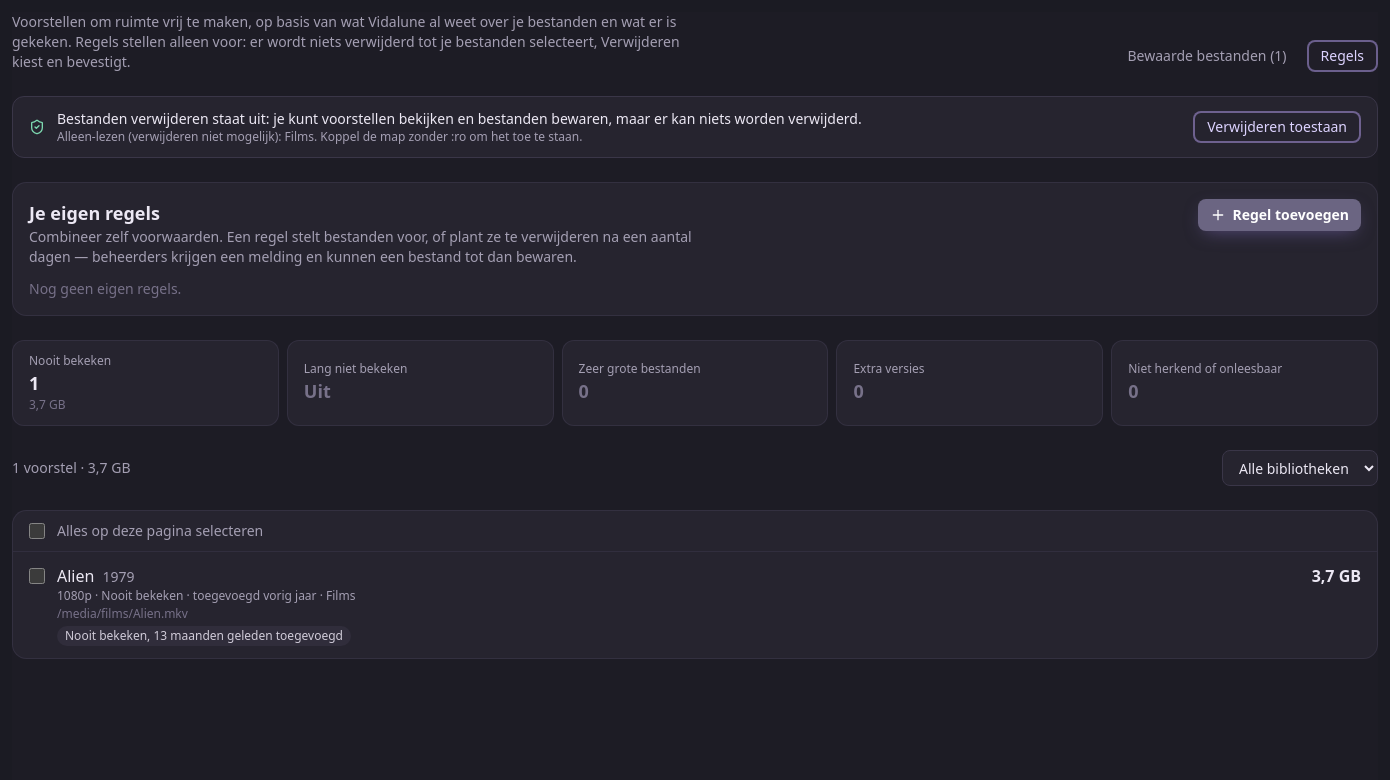
Dutch interface › clean-up
Check: the text "Bestanden verwijderen staat uit" is shown, box [57, 109, 862, 128]
Click the checkbox named "Alien 1979 selecteren": (37, 576) [29, 568, 45, 584]
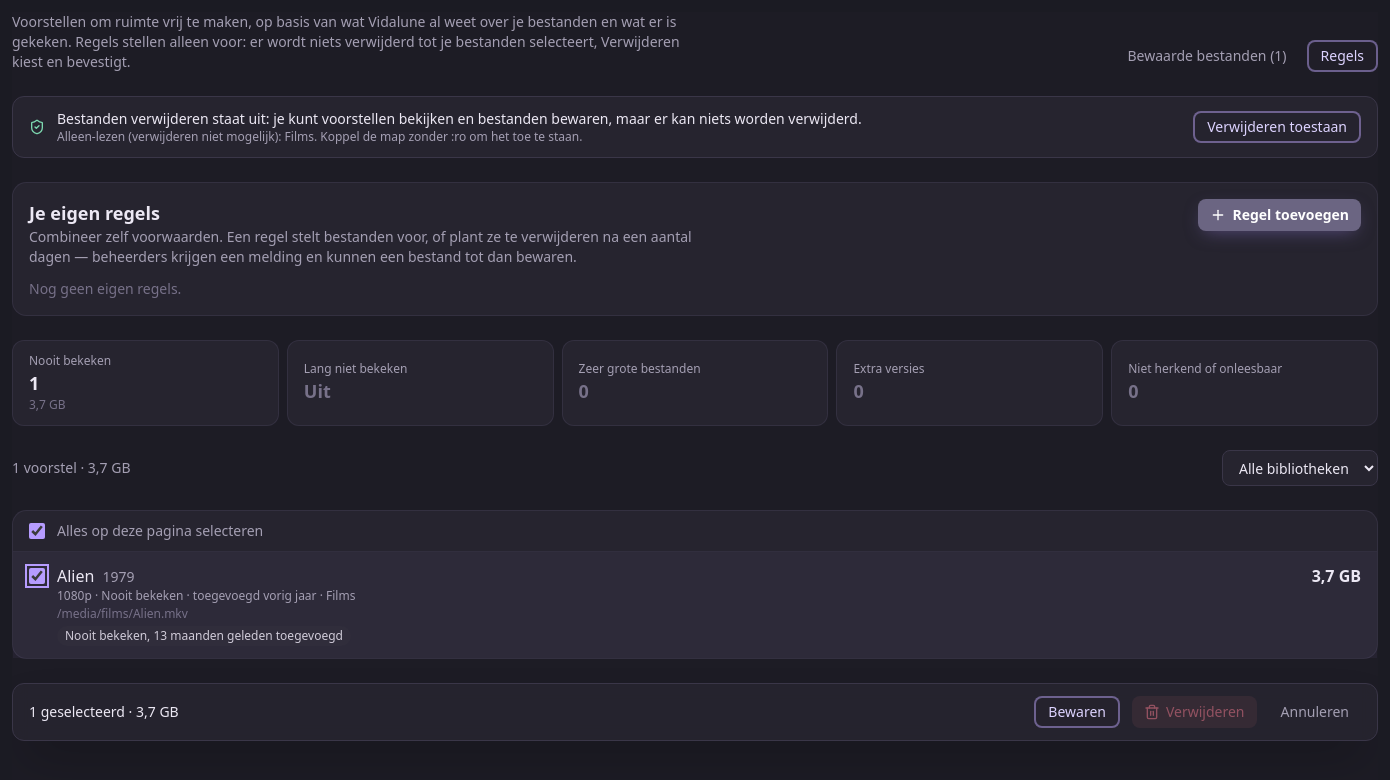
Check: the element named "Geselecteerde bestanden" shows "1 geselecteerd", box [29, 702, 179, 721]
